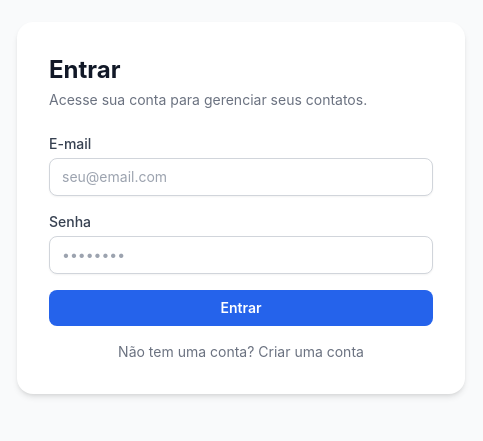
Test: LoginPage — fluxo de erro › exibe mensagem genérica quando authService.login lança erro
The image size is (483, 441).
Type "a@a.com" into the field labelled "E-mail" at [241, 177], box x1=49 y1=158 x2=433 y2=196
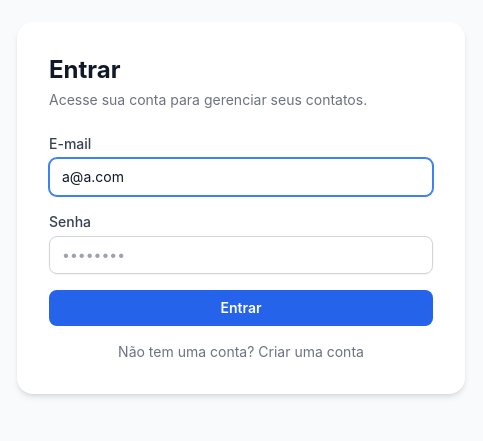
Type "errada" into the password field labelled "Senha" at [241, 255], box x1=49 y1=236 x2=433 y2=274
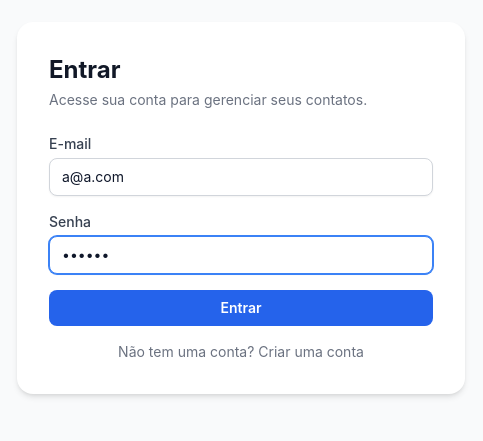
Click the button "Entrar" at [241, 308], box x1=49 y1=290 x2=433 y2=326
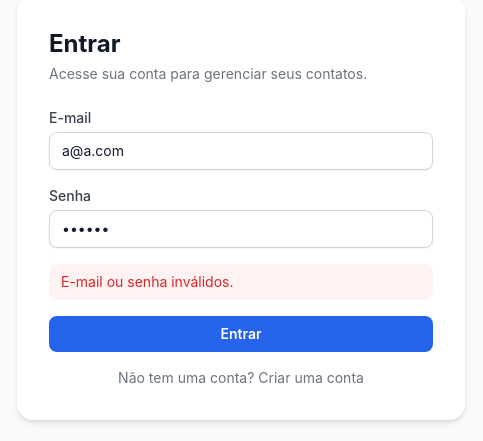
Expected: the text "E-mail ou senha inválidos." is shown, x1=49 y1=264 x2=433 y2=300
